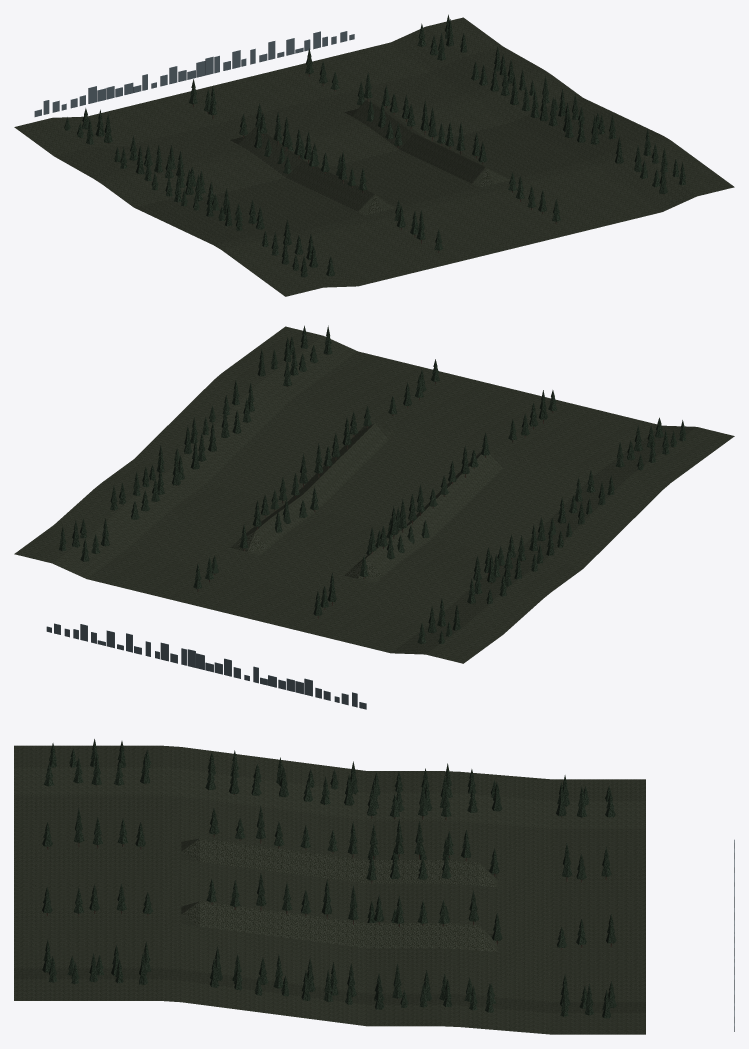
File: PH03_Mountain_and_Forest.fbx
3 renders of one model, top to bottom at view 1: azimuth 30°, elevation 25°; view 2: azimuth 150°, elevation 25°; view 3: azimuth 270°, elevation 25°, orthographic. The views are drawn at different scales.
Visible parts, largest first — view 1: PH03_Scenic_MountainShell; view 2: PH03_Scenic_MountainShell; view 3: PH03_Scenic_MountainShell.
Boxes of the visible parts, bbox=[...] form: PH03_Scenic_MountainShell: bbox=[14, 17, 734, 296]; PH03_Scenic_MountainShell: bbox=[14, 326, 734, 663]; PH03_Scenic_MountainShell: bbox=[14, 745, 645, 1034].
Size of the model in its own units: 13000 by 2485 by 15515.
Materials: 4 (3 with a texture image).
